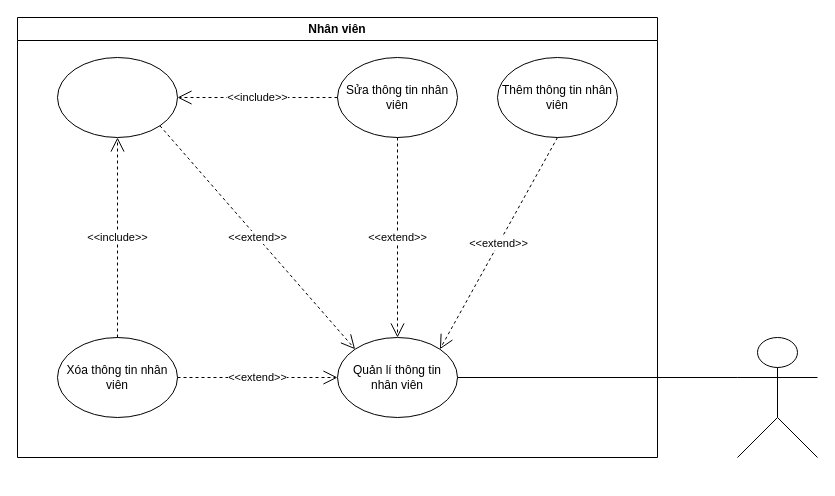
The diagram is 835 pixels wide and 496 high, and some of its shapes have lost their labels. The centre of each missing label's shape, as x and y in pixels:
"Người q uản lí" belongs at (777,397).
"Xem thông tin nhân viên" belongs at (117,97).
